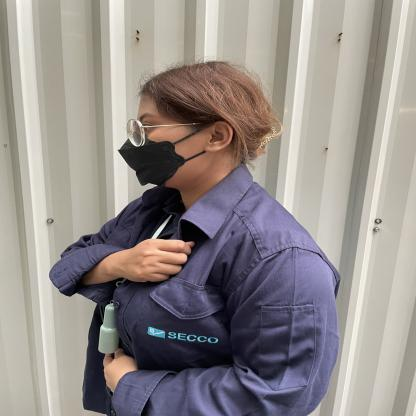Sadness: (47, 209, 235, 310)
